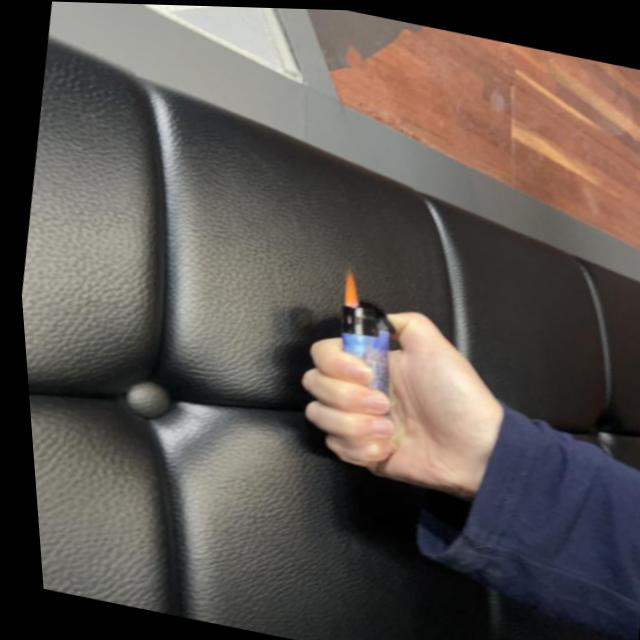Fire: (333, 265, 363, 309)
